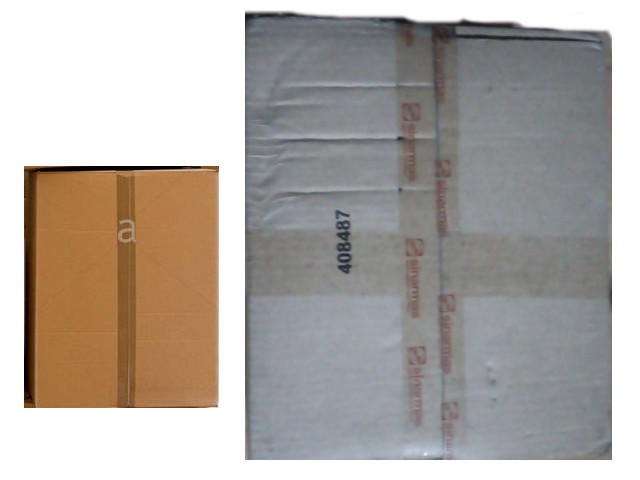cardboard: (243, 22, 613, 458), (29, 168, 218, 408)
